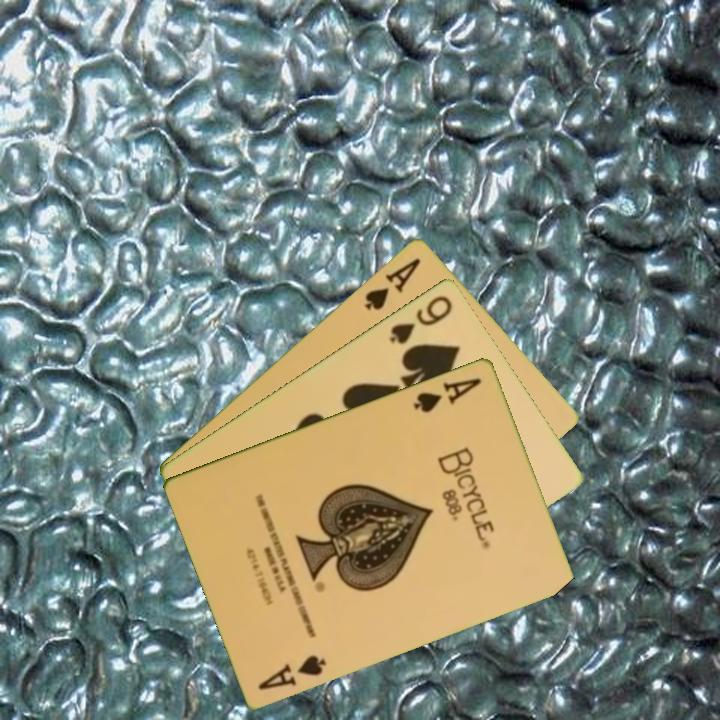9s: (386, 291, 456, 347)
As: (360, 254, 424, 313), (255, 650, 330, 693), (410, 373, 485, 415)
